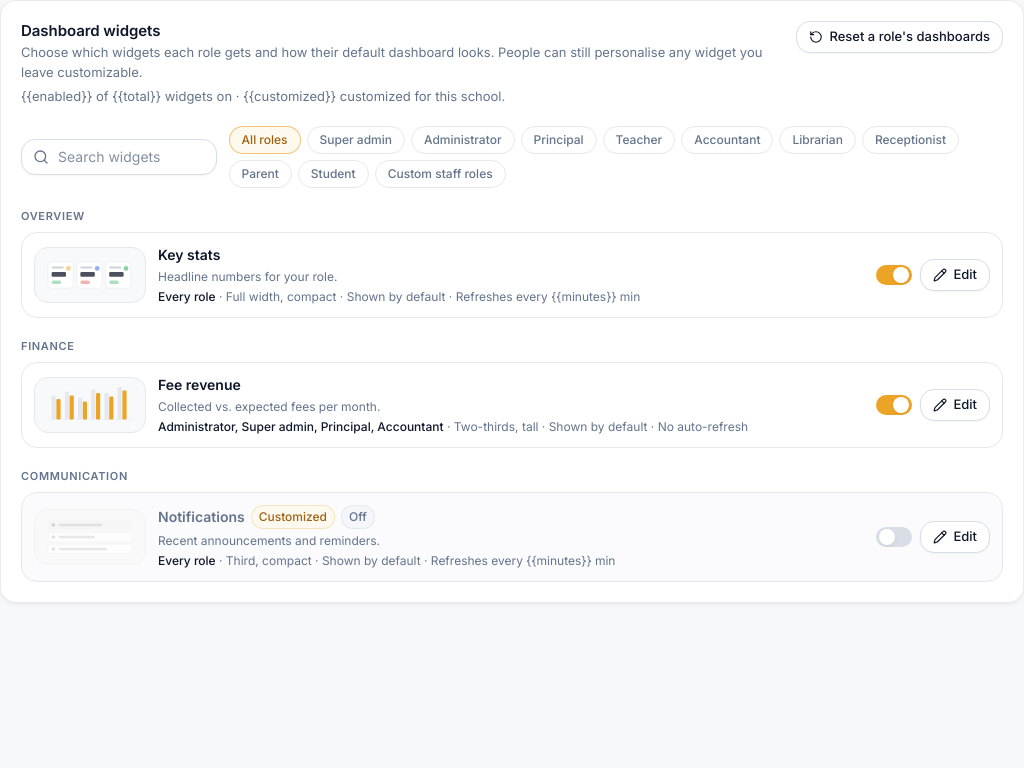
WidgetManagementTab › filters by role and search
Expected: the text "Fee revenue" is shown, left=158, top=375, right=241, bottom=395
Click the button "Teacher": (639,140) left=602, top=126, right=675, bottom=154
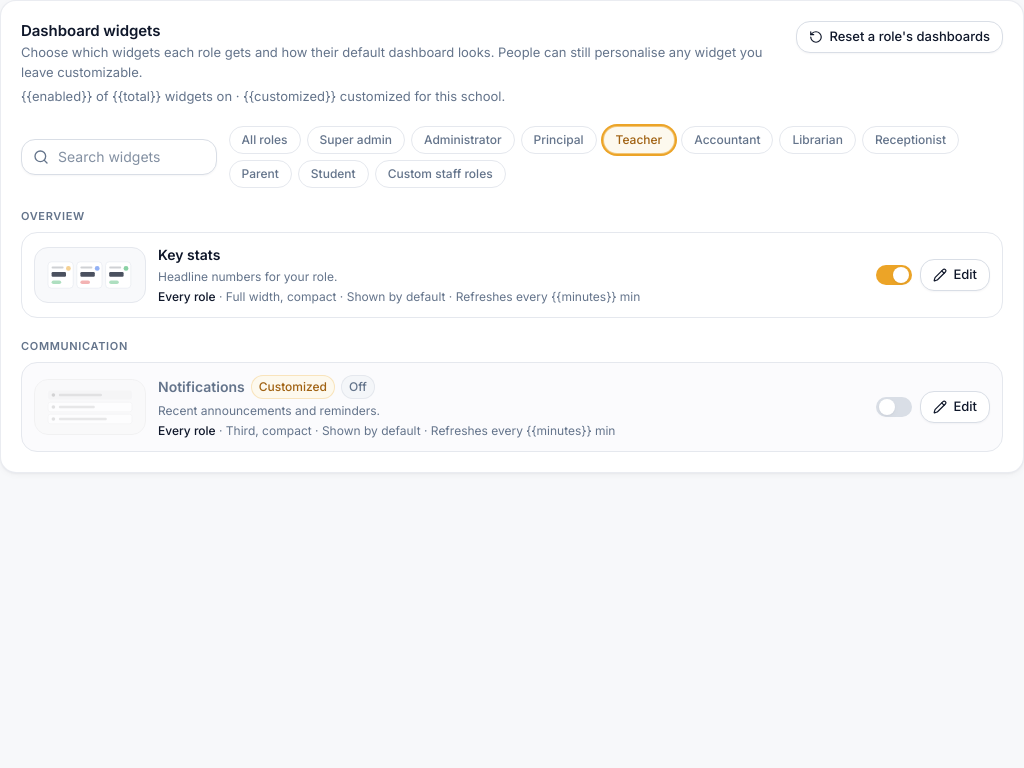
Expected: the text "Key stats" is shown, left=158, top=245, right=220, bottom=265
Expected: the text "Fee revenue" is gone
Click the button "All roles": (265,140) left=229, top=126, right=301, bottom=154
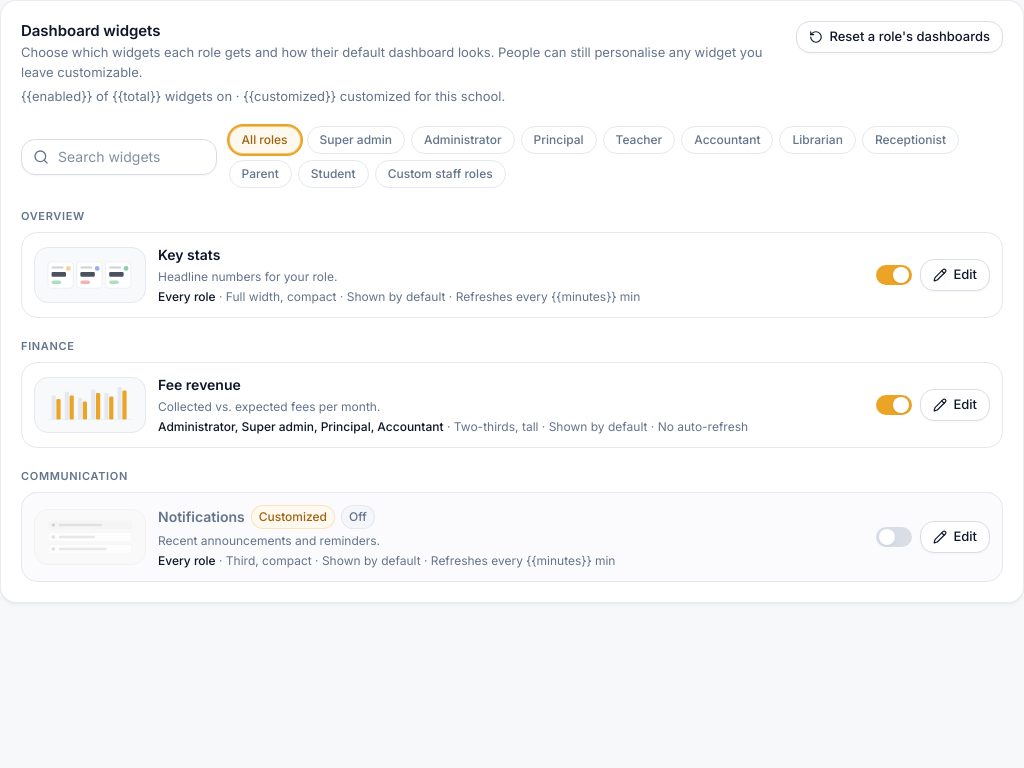
In the search field labelled "Search widgets": (119,157) left=21, top=139, right=217, bottom=175, type "notif"
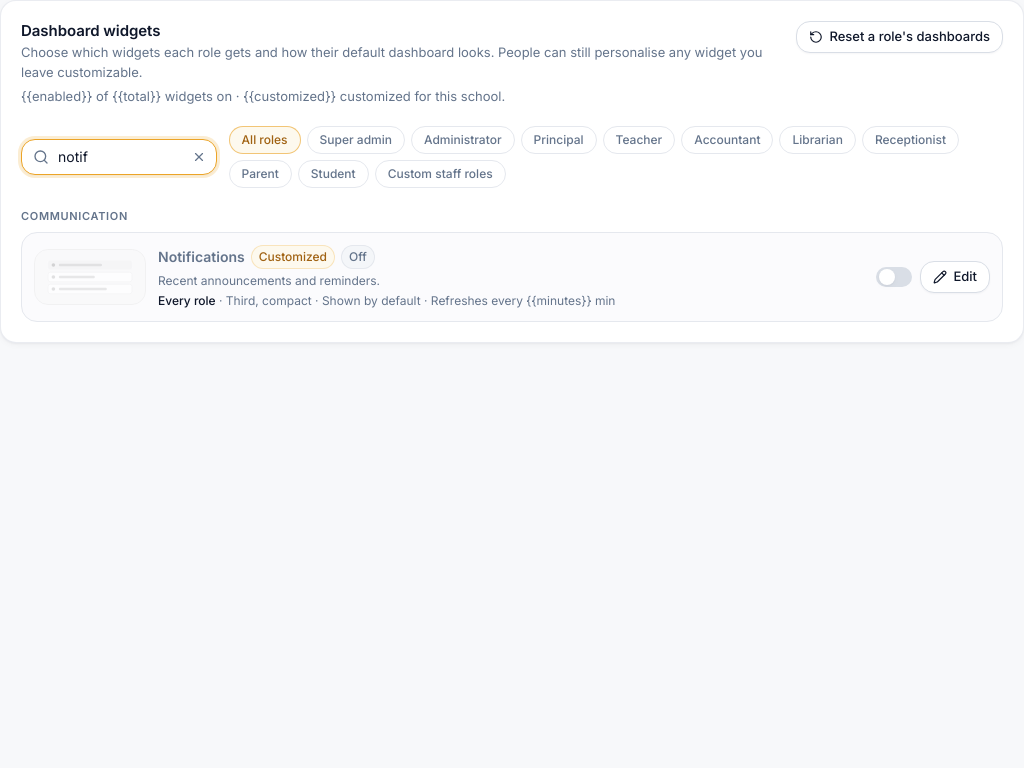
Expected: the text "Notifications" is shown, left=158, top=247, right=245, bottom=267
Expected: the text "Key stats" is gone
